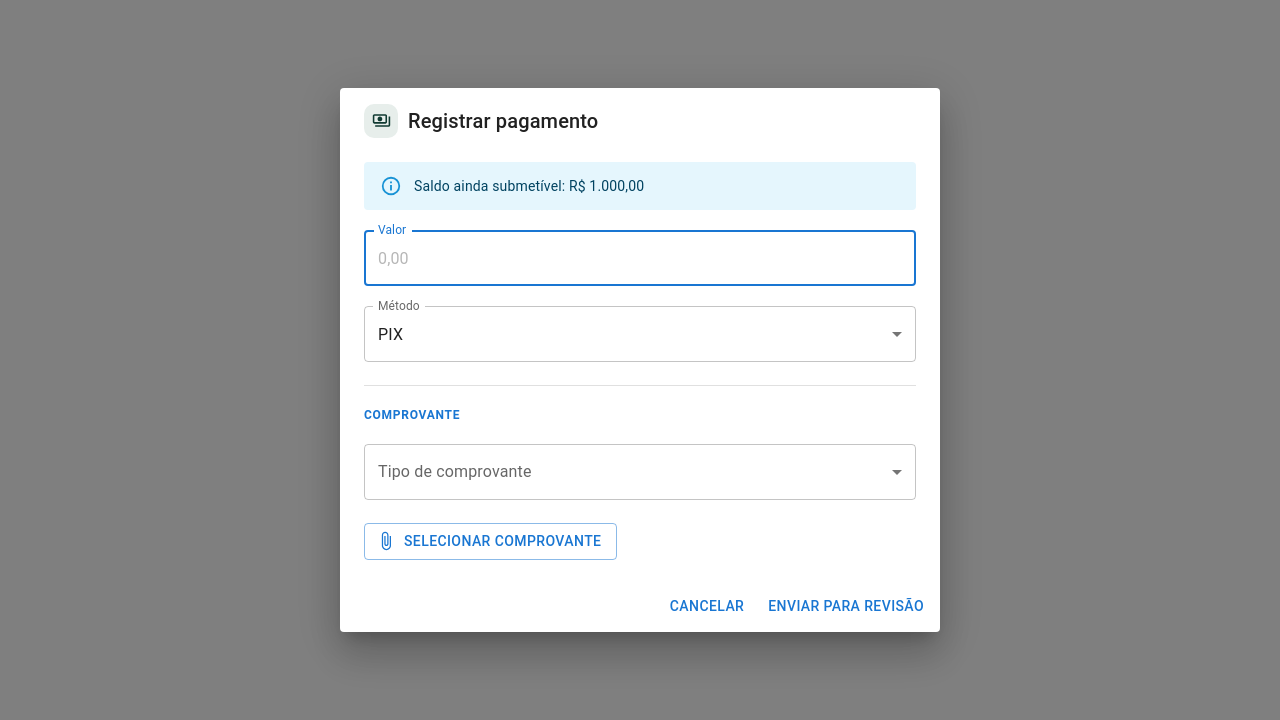
Test case: SubmitPaymentDialog › recusa valor zero
Type "0" into the field labelled "Valor".
click(640, 258); type("0")  # box top-left (364, 230), bottom-right (916, 286)
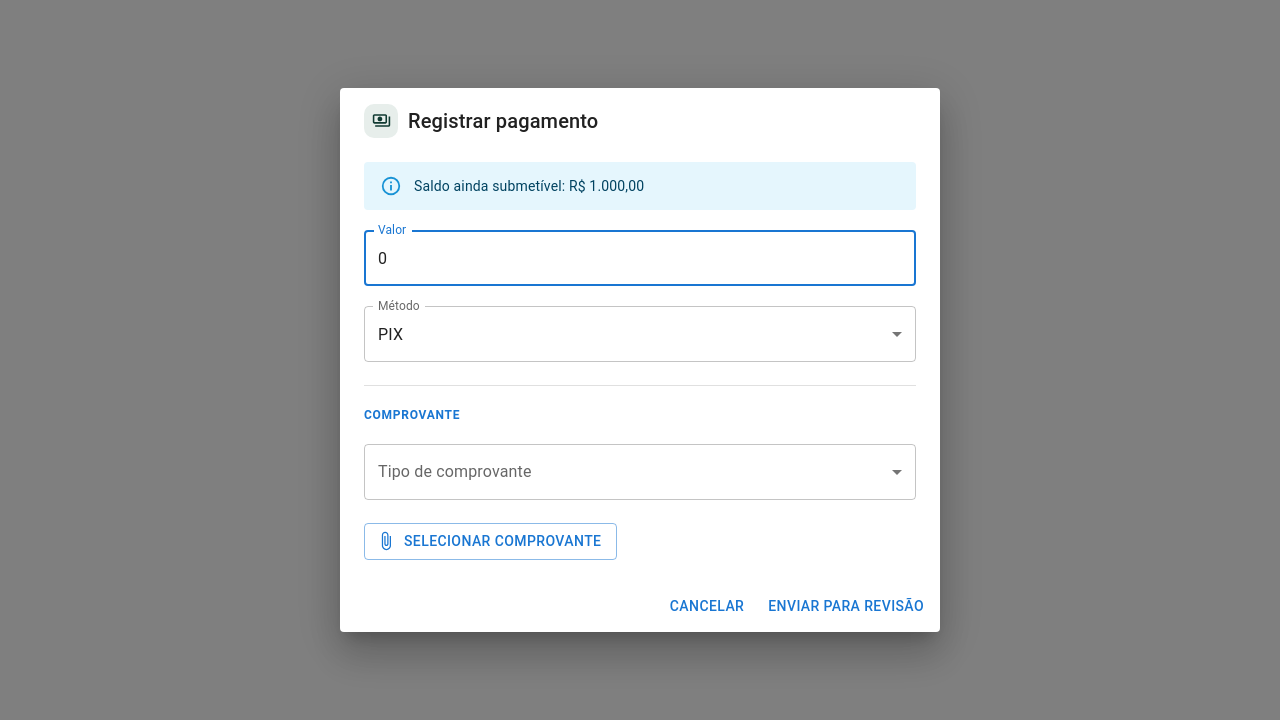
Click the dropdown named "Método".
click(391, 334)  # box top-left (378, 324), bottom-right (403, 344)
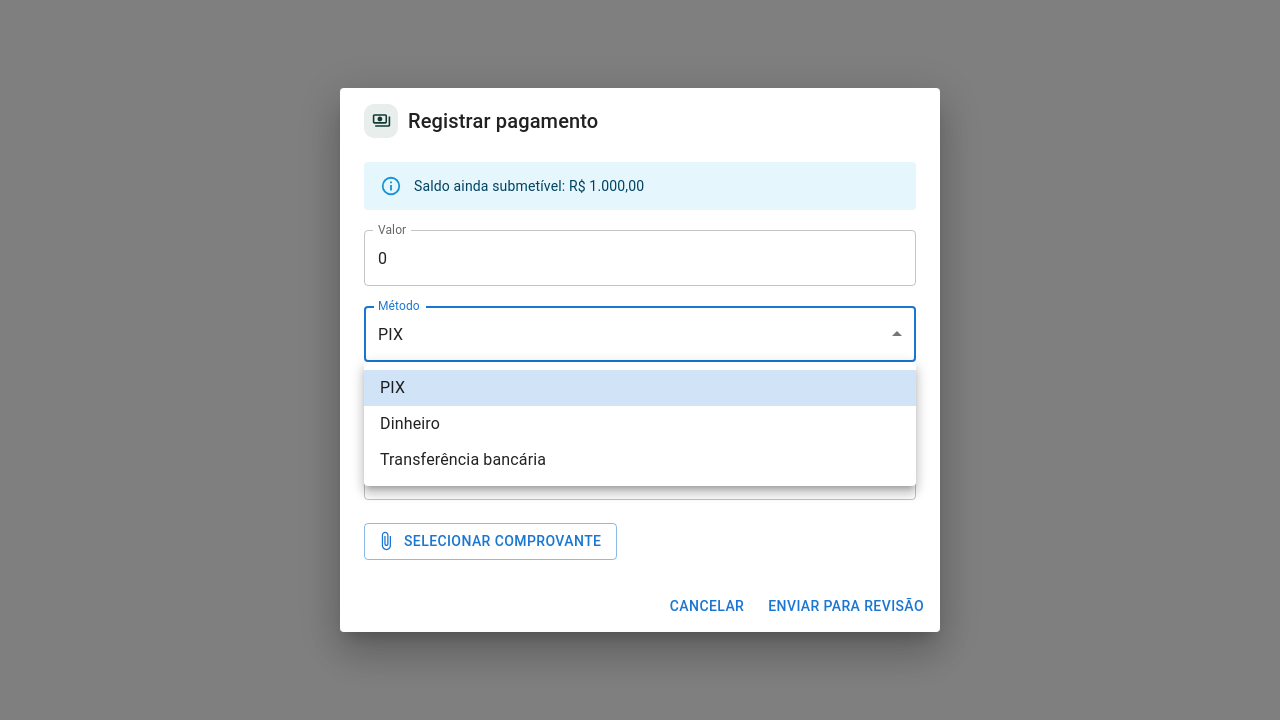
Click the option "Dinheiro".
click(410, 424)  # box top-left (380, 414), bottom-right (440, 433)
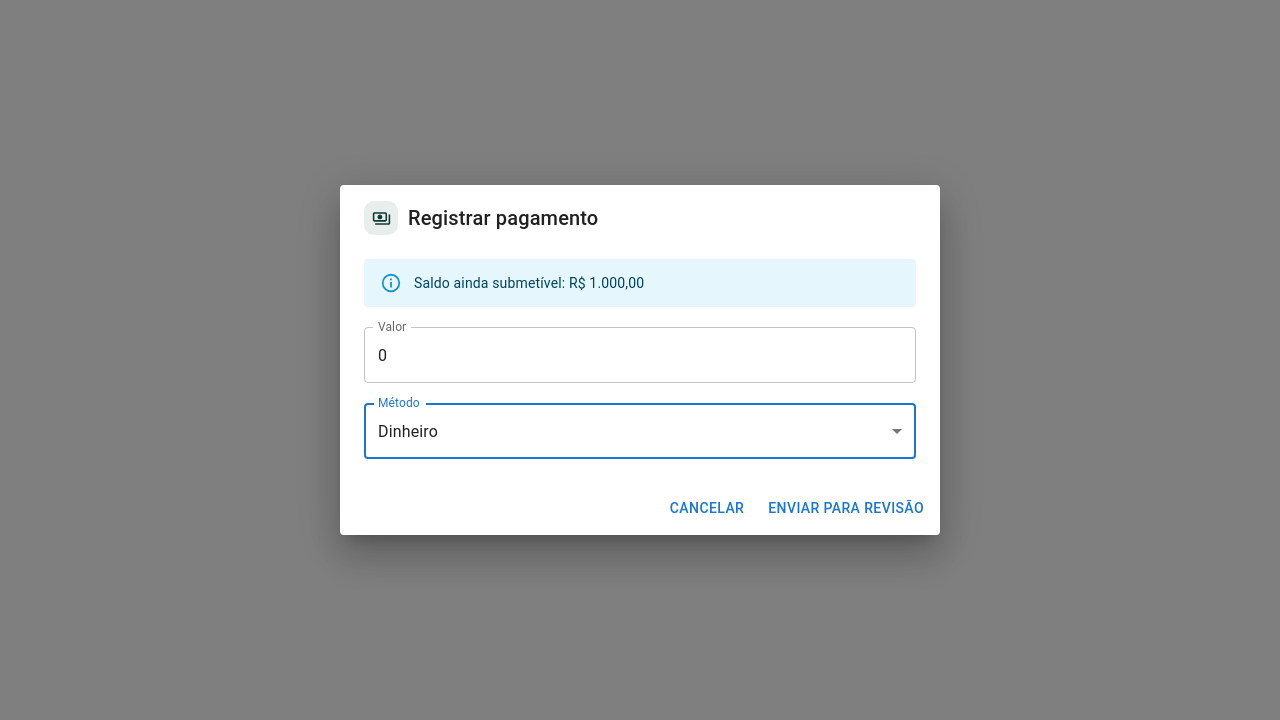
Click the button "Enviar para revisão".
click(846, 509)  # box top-left (760, 490), bottom-right (932, 527)
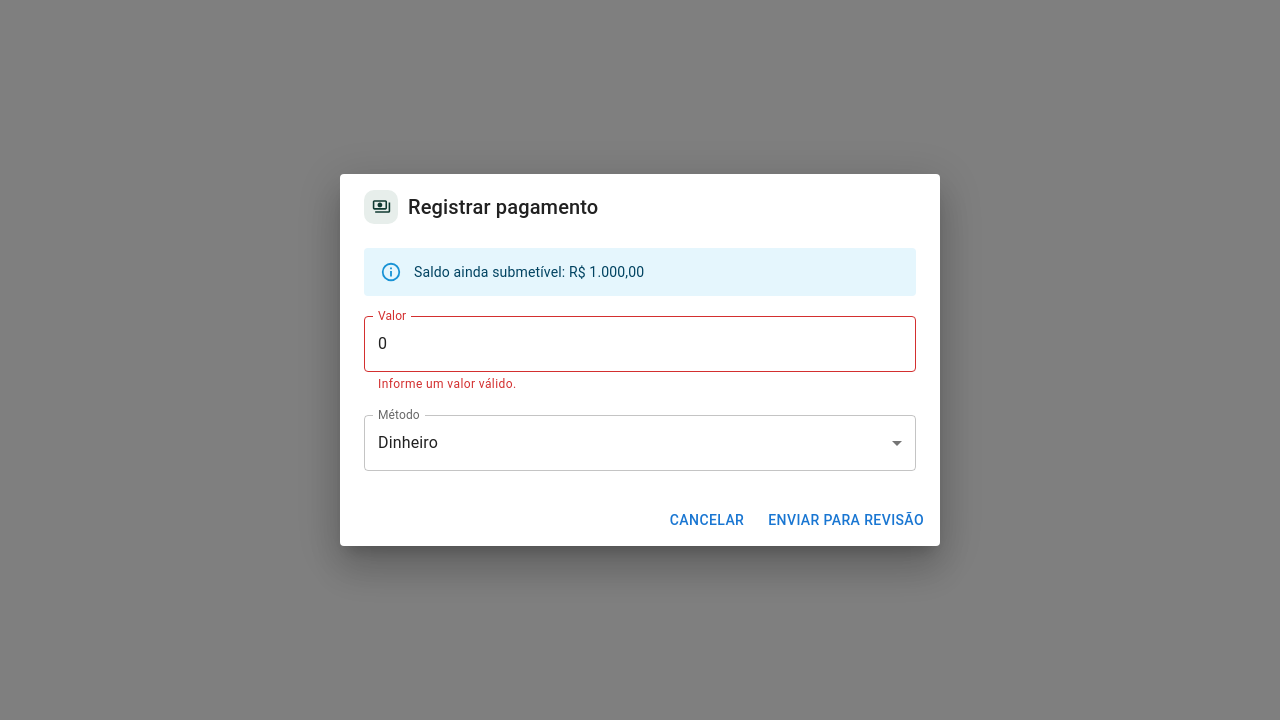
Expected: the text "Informe um valor válido." is shown, top-left (378, 377), bottom-right (516, 391)
